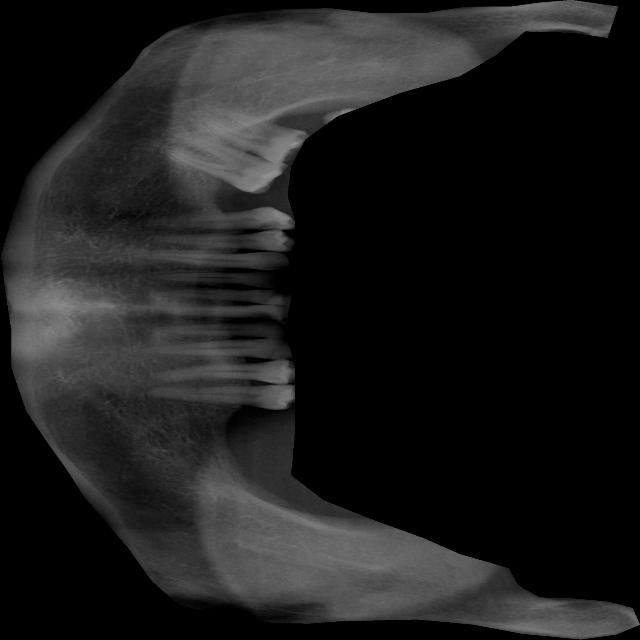mandibula: (0, 0, 639, 640)
